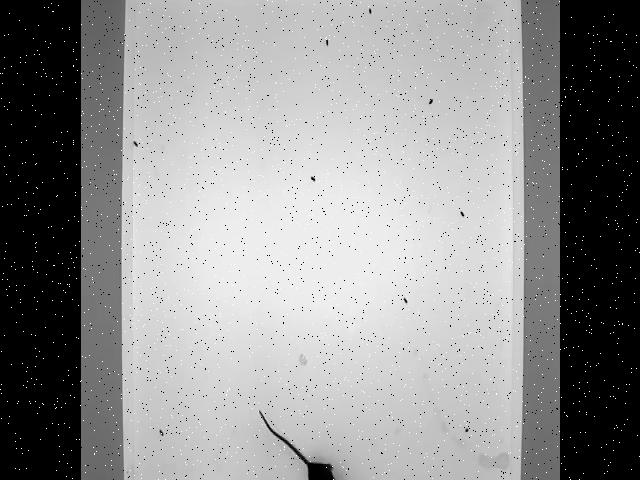Tikus: (246, 412, 348, 480)
